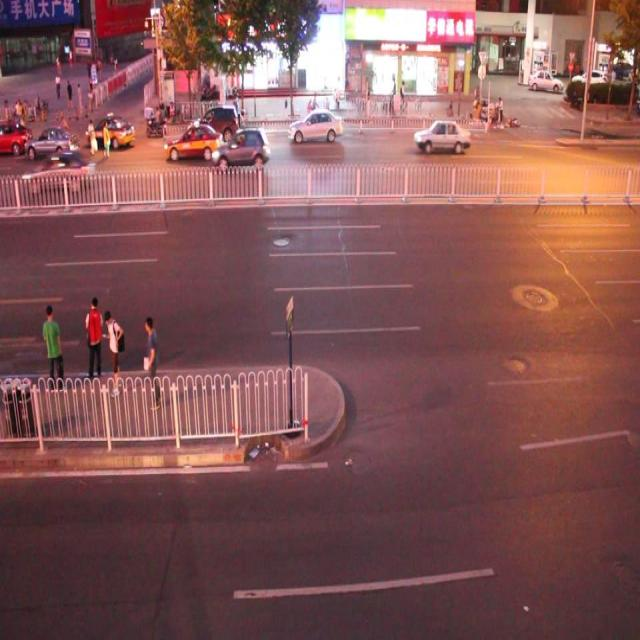car: (24, 154, 95, 194), (212, 129, 270, 170), (165, 124, 222, 162), (188, 105, 241, 144), (413, 119, 469, 155), (288, 108, 342, 143), (25, 127, 79, 160), (85, 115, 135, 150), (1, 120, 32, 156)
